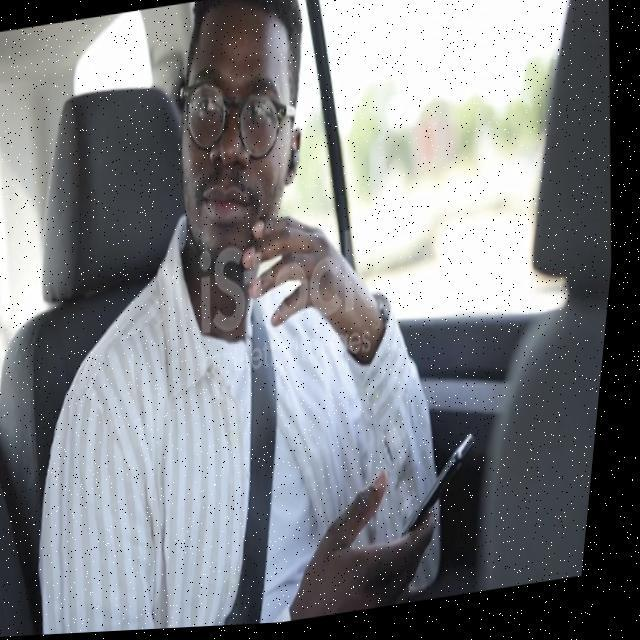PhoneCall: (395, 435, 494, 555)
